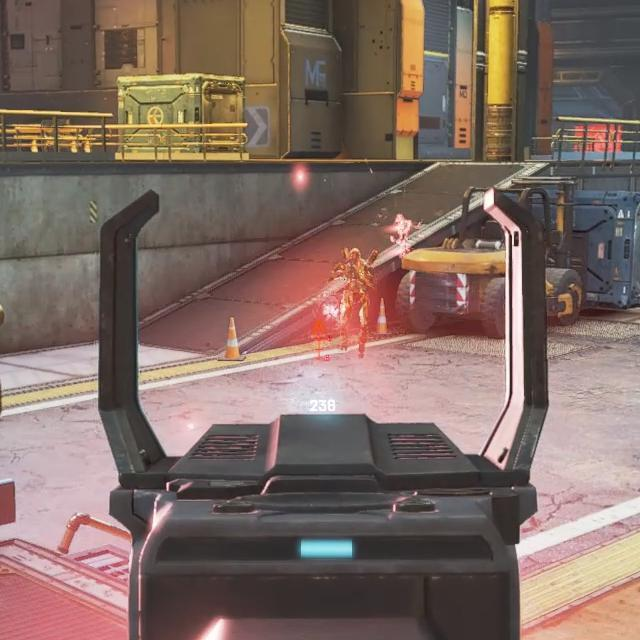avatar: (330, 244, 379, 357)
